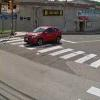Crosswalk: (46, 42, 100, 68)
